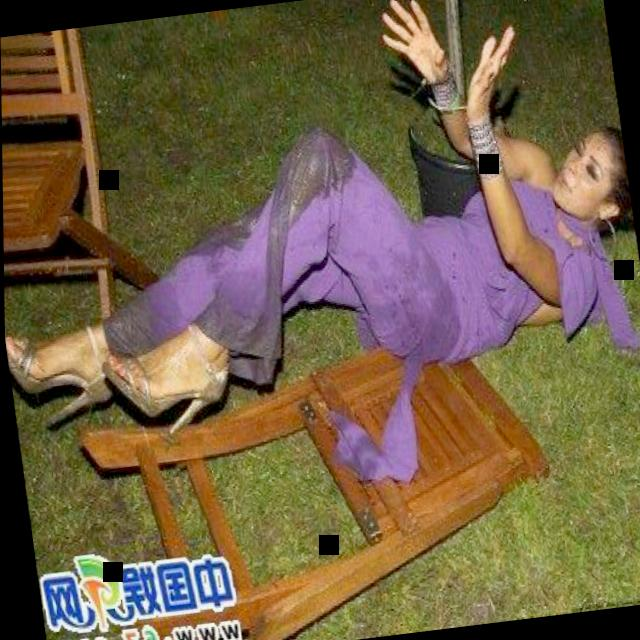Fall-Detected: (0, 7, 640, 471)
